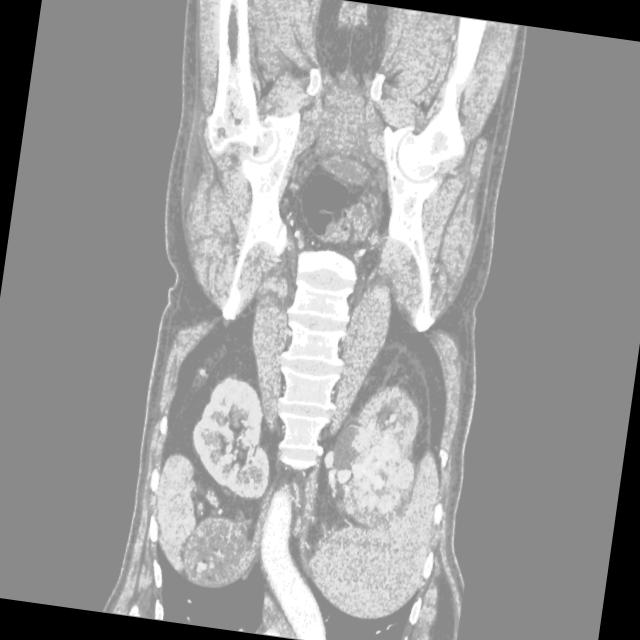TUMOR: (0, 231, 543, 533)
